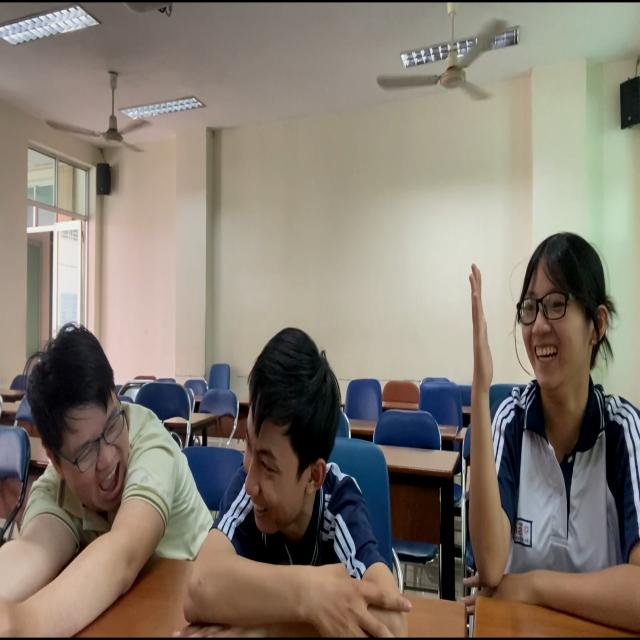raise_hand: (446, 228, 640, 640)
